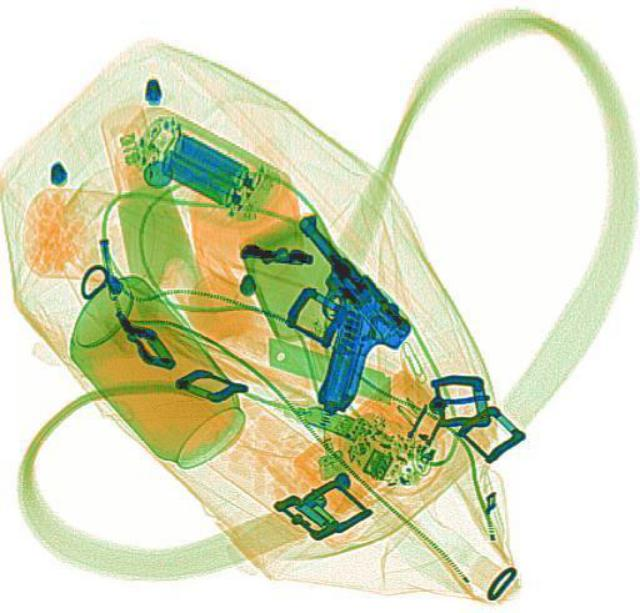Gun: (211, 206, 434, 417)
